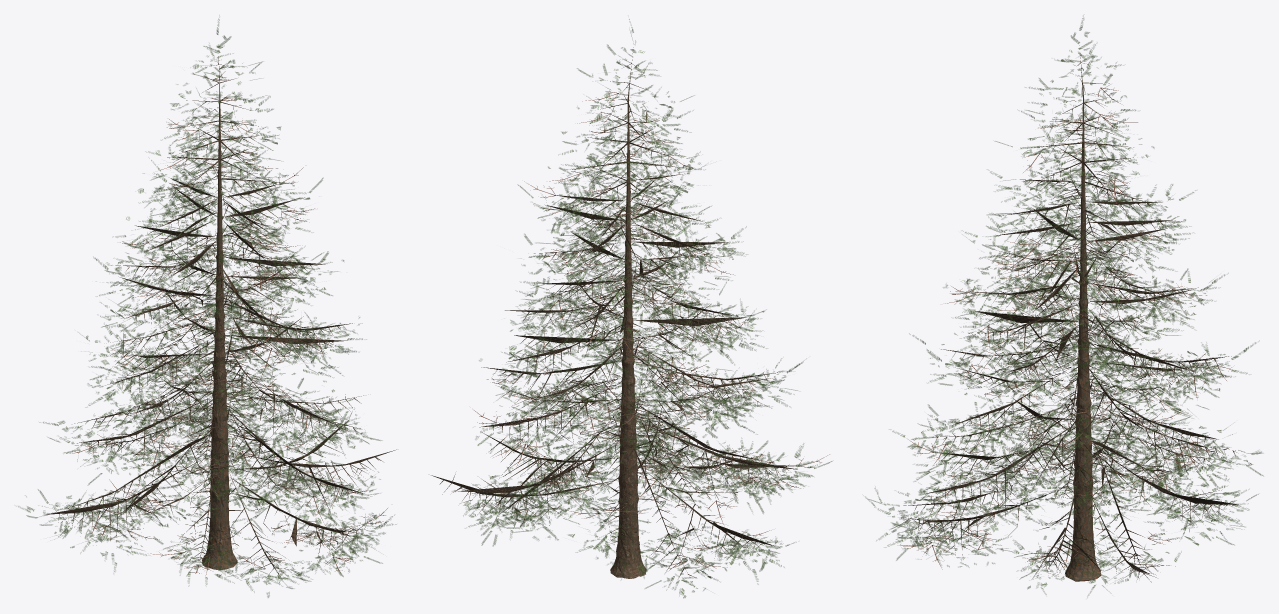
File: bk_grand_fir_v10_lod1.glb
3 renders of one model, left to right at view 1: azimuth 30°, elevation 25°; view 2: azimuth 150°, elevation 25°; view 3: azimuth 270°, elevation 25°, orthographic. The views are drawn at different scales.
Parts seen in each view (by area): view 1: foliage, branches, foliage_2, trunk; view 2: foliage, branches, foliage_2, trunk; view 3: foliage, branches, foliage_2, trunk.
Part boxes in pixels (x1,y1,x2,y2): foliage: [18, 19, 396, 597]; branches: [44, 62, 396, 579]; foliage_2: [25, 44, 381, 575]; trunk: [202, 56, 237, 570]; foliage: [452, 19, 832, 598]; branches: [431, 61, 798, 578]; foliage_2: [482, 40, 817, 568]; trunk: [610, 47, 646, 578]; foliage: [865, 16, 1263, 597]; branches: [900, 61, 1241, 582]; foliage_2: [874, 40, 1227, 571]; trunk: [1065, 45, 1100, 581].
Bounding box in the file's own units: 5.45 × 8.13 × 5.29.
Materials: 4 (4 with a texture image).
